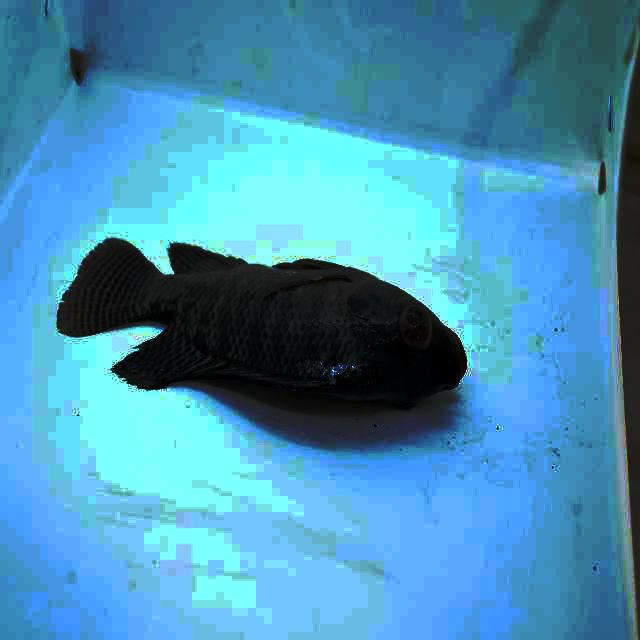Streptococcus: (58, 239, 466, 409)
